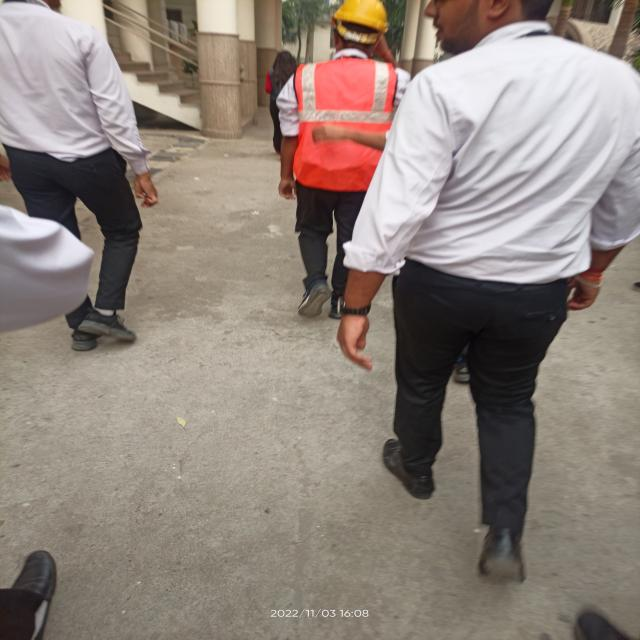safe: (270, 0, 434, 321)
unsafe: (338, 0, 640, 584), (0, 0, 159, 354)
